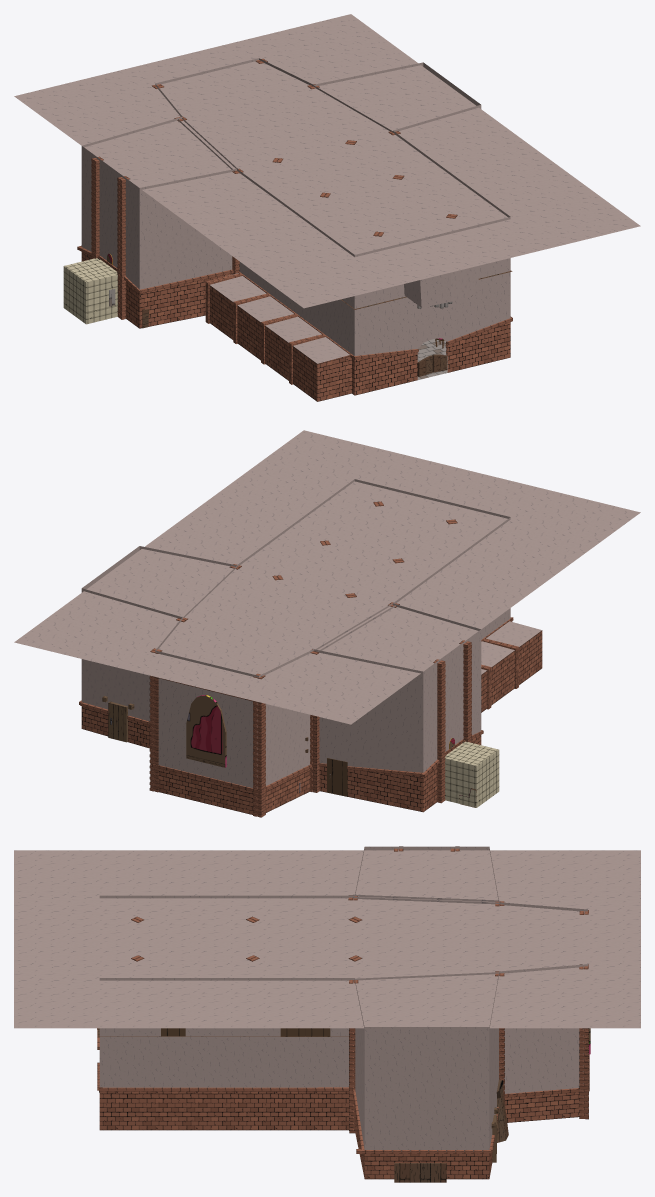
The model's file is kosciolwip.fbx.
3 renders of one model, top to bottom at view 1: azimuth 30°, elevation 25°; view 2: azimuth 150°, elevation 25°; view 3: azimuth 270°, elevation 25°, orthographic. The views are drawn at different scales.
Visible parts, largest first — view 1: Plane.030; view 2: Plane.030; view 3: Plane.030.
Boxes of the visible parts, bbox=[...] form: Plane.030: bbox=[14, 14, 640, 401]; Plane.030: bbox=[14, 430, 640, 817]; Plane.030: bbox=[14, 846, 640, 1182].
Size of the model in its own units: 2869 by 1049 by 3797.
13 materials, 12 textured.
